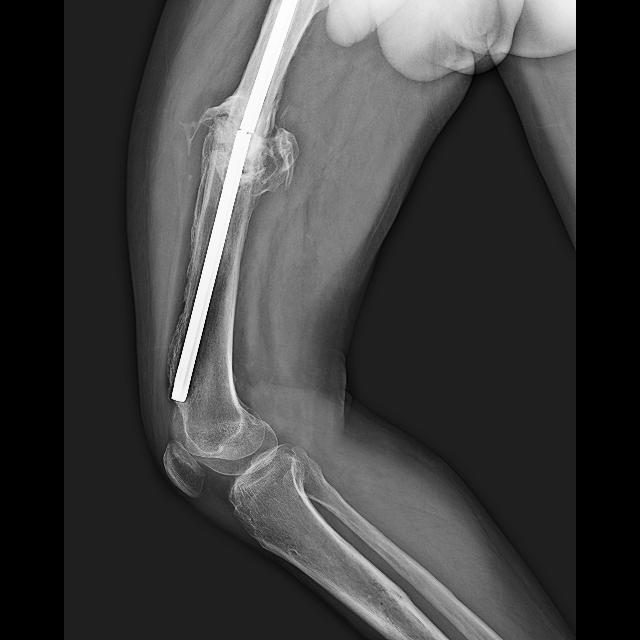Fracture: (199, 89, 304, 199)
